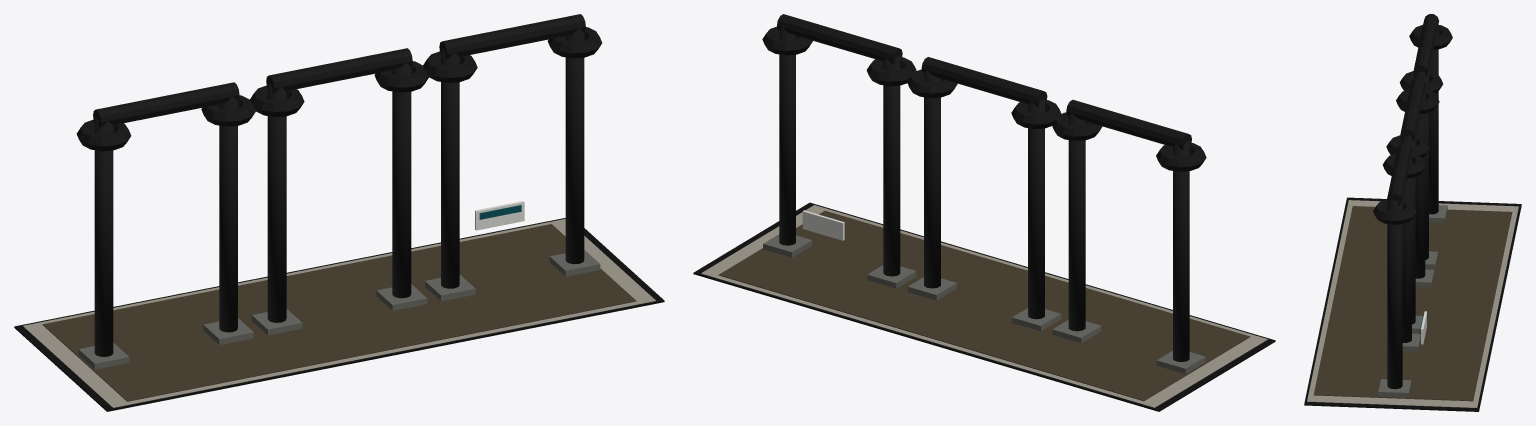
Rendered from hm_prop_bike_rack_v2.obj.
The picture shows the model from 3 angles, left to right: view 1: azimuth 30°, elevation 25°; view 2: azimuth 150°, elevation 25°; view 3: azimuth 270°, elevation 25°; orthographic projection. The views are drawn at different scales.
Visible parts, largest first — view 1: hm_prop_bike_rack_v2_Dirt, hm_prop_bike_rack_v2_SaltRing, Bike_Up_1_-1, Bike_Up_0_-1, Bike_Up_1_1, Bike_Up_2_1, hm_prop_bike_rack_v2_Shadow, Bike_Up_2_-1, Bike_Up_0_1, Bike_Top_0, Bike_Top_2, Bike_Top_1 (+13 smaller); view 2: hm_prop_bike_rack_v2_Dirt, hm_prop_bike_rack_v2_SaltRing, Bike_Up_2_-1, hm_prop_bike_rack_v2_Shadow, Bike_Up_0_1, Bike_Up_1_-1, Bike_Up_0_-1, Bike_Up_1_1, Bike_Up_2_1, Bike_Top_0, Bike_Top_2, Bike_Top_1 (+13 smaller); view 3: hm_prop_bike_rack_v2_Dirt, hm_prop_bike_rack_v2_SaltRing, Bike_Up_2_1, hm_prop_bike_rack_v2_Shadow, Bike_Up_2_-1, Bike_Up_1_-1, Bike_Up_0_-1, Bike_Top_1, Bike_Top_2, Bike_Top_0, Bike_Cr_2_1, Bike_Up_1_1 (+10 smaller).
Part boxes in pixels (left/top/right/bottom): hm_prop_bike_rack_v2_Dirt: left=42, top=224, right=636, bottom=401; hm_prop_bike_rack_v2_SaltRing: left=23, top=219, right=655, bottom=407; Bike_Up_1_-1: left=267, top=83, right=286, bottom=322; Bike_Up_0_-1: left=94, top=117, right=113, bottom=356; Bike_Up_1_1: left=392, top=63, right=411, bottom=298; Bike_Up_2_1: left=565, top=28, right=584, bottom=264; hm_prop_bike_rack_v2_Shadow: left=14, top=218, right=664, bottom=411; Bike_Up_2_-1: left=441, top=49, right=459, bottom=288; Bike_Up_0_1: left=219, top=97, right=237, bottom=332; Bike_Top_0: left=93, top=82, right=239, bottom=127; Bike_Top_2: left=439, top=14, right=585, bottom=59; Bike_Top_1: left=266, top=48, right=412, bottom=93; hm_prop_bike_rack_v2_Dirt: left=718, top=210, right=1250, bottom=401; hm_prop_bike_rack_v2_SaltRing: left=701, top=205, right=1267, bottom=407; Bike_Up_2_-1: left=883, top=55, right=900, bottom=276; hm_prop_bike_rack_v2_Shadow: left=693, top=202, right=1275, bottom=411; Bike_Up_0_1: left=1068, top=113, right=1085, bottom=331; Bike_Up_1_-1: left=1028, top=98, right=1044, bottom=319; Bike_Up_0_-1: left=1173, top=141, right=1189, bottom=361; Bike_Up_1_1: left=924, top=70, right=940, bottom=288; Bike_Up_2_1: left=779, top=27, right=795, bottom=245; Bike_Top_0: left=1066, top=99, right=1191, bottom=149; Bike_Top_2: left=777, top=14, right=902, bottom=64; Bike_Top_1: left=921, top=57, right=1047, bottom=107; hm_prop_bike_rack_v2_Dirt: left=1313, top=206, right=1512, bottom=401; hm_prop_bike_rack_v2_SaltRing: left=1307, top=200, right=1518, bottom=407; Bike_Up_2_1: left=1387, top=198, right=1402, bottom=389; hm_prop_bike_rack_v2_Shadow: left=1304, top=197, right=1521, bottom=411; Bike_Up_2_-1: left=1402, top=153, right=1411, bottom=342; Bike_Up_1_-1: left=1415, top=89, right=1425, bottom=278; Bike_Up_0_-1: left=1429, top=24, right=1438, bottom=214; Bike_Top_1: left=1400, top=78, right=1425, bottom=141; Bike_Top_2: left=1387, top=142, right=1412, bottom=205; Bike_Top_0: left=1413, top=14, right=1438, bottom=77; Bike_Cr_2_1: left=1373, top=199, right=1416, bottom=224; Bike_Up_1_1: left=1400, top=136, right=1415, bottom=324.
Bounding box in the file's own units: 1.65 × 0.7278 × 0.7131.
